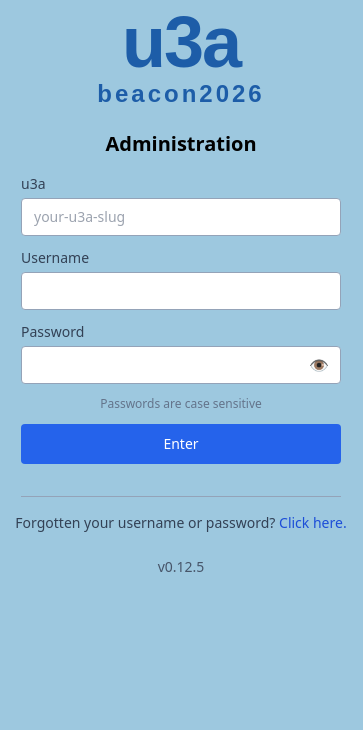
Test case: Login page › opens the credential-recovery section on request
The width and height of the screenshot is (363, 730).
Expected: the text "Recover your credentials" is not shown
Click the button "Click here.": (313, 523) x1=279 y1=513 x2=347 y2=533
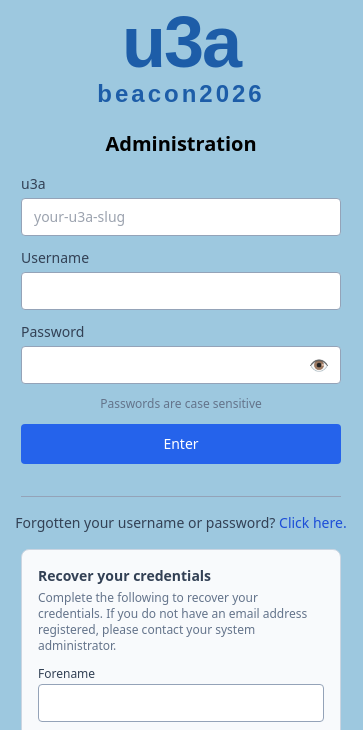
Result: the heading "Recover your credentials" is shown at x1=38 y1=566 x2=211 y2=585
